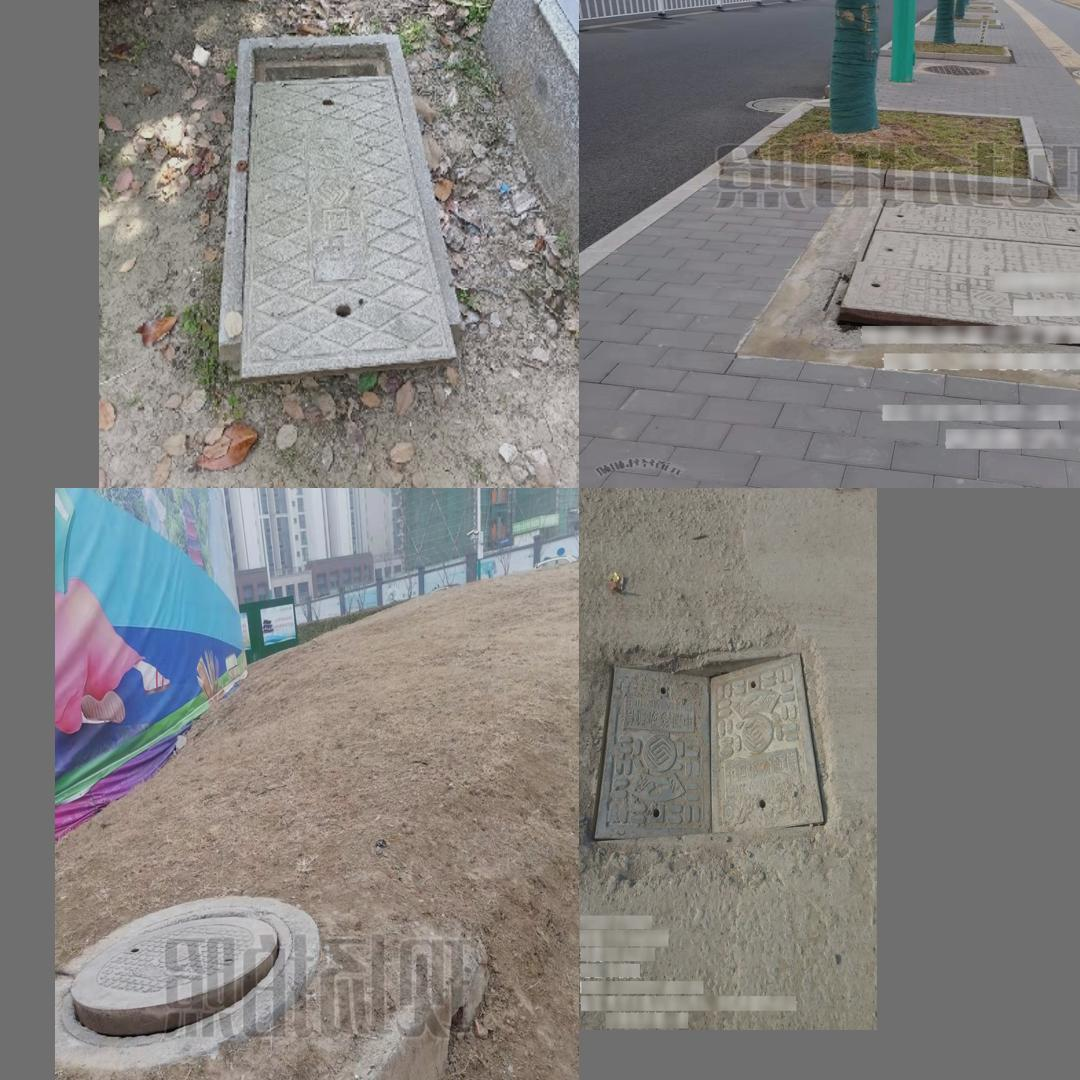good: (745, 94, 819, 113), (922, 63, 992, 76), (1070, 68, 1080, 81)
uncovered: (216, 28, 464, 376), (591, 643, 833, 843), (817, 198, 1080, 360), (59, 910, 296, 1049)
